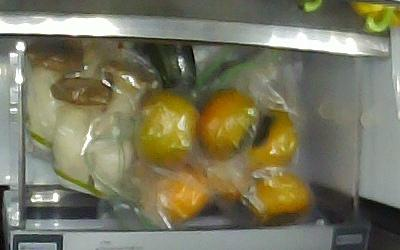persimmon_vinyl: (134, 90, 203, 171), (196, 90, 262, 161), (141, 162, 211, 225), (241, 107, 300, 172), (243, 170, 313, 221)
